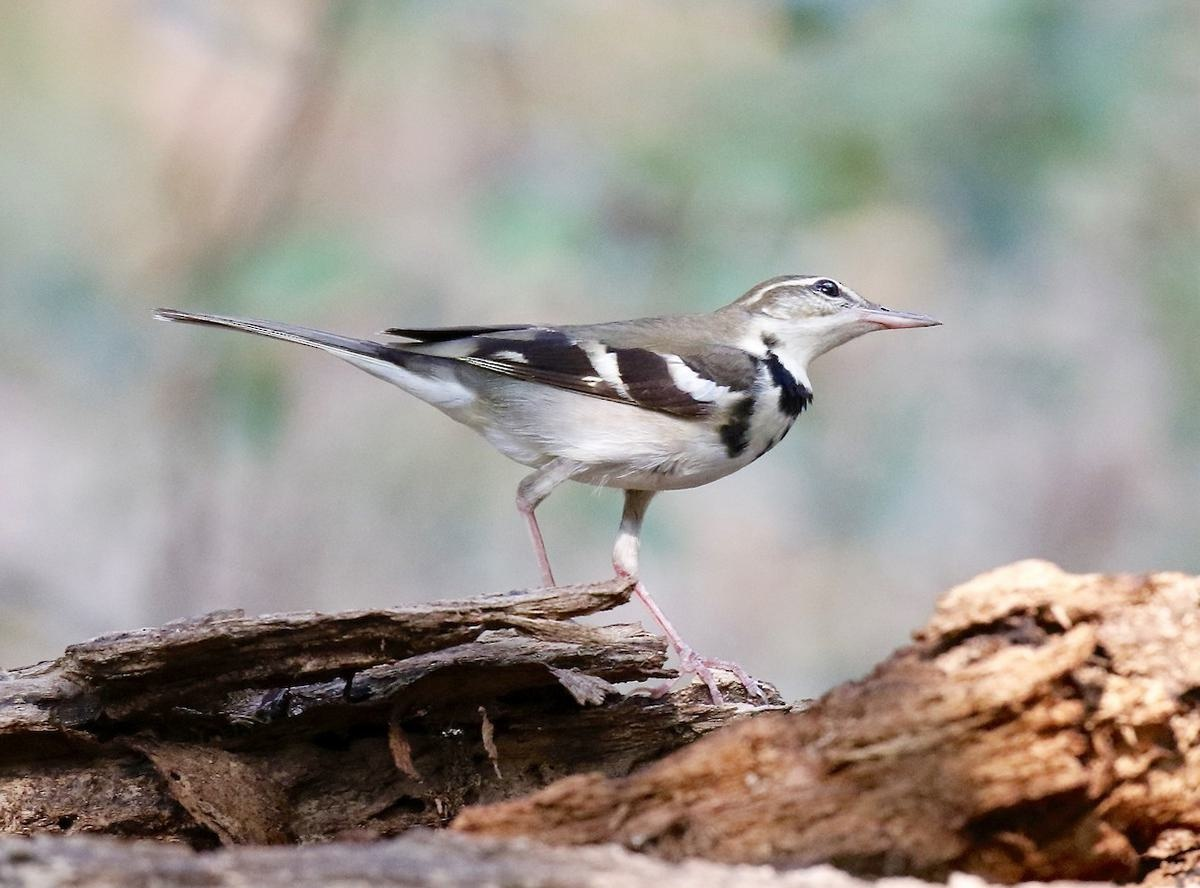wagtail: (236, 275, 951, 569)
